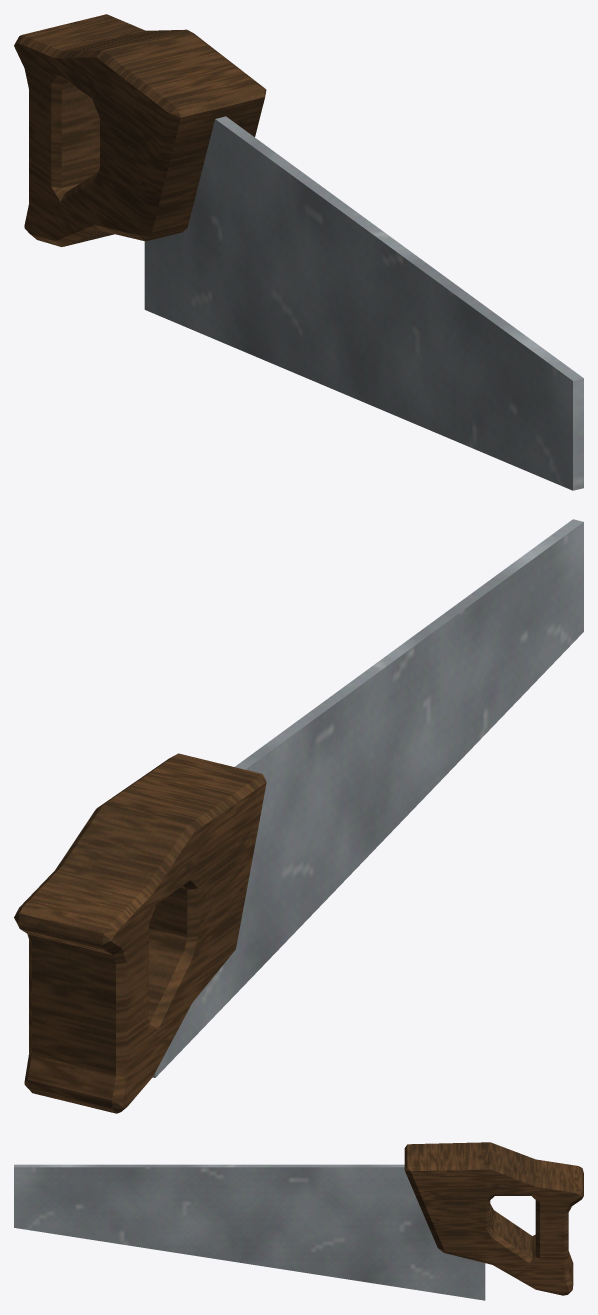
Rendered from Handsaw.fbx.
3 views of the same model, one above another, from view 1: azimuth 30°, elevation 25°; view 2: azimuth 150°, elevation 25°; view 3: azimuth 270°, elevation 25° (orthographic). The views are drawn at different scales.
Visible parts, largest first — view 1: Handsaw, Handsaw.001; view 2: Handsaw, Handsaw.001; view 3: Handsaw, Handsaw.001.
Part boxes in pixels (bbox=[...]): Handsaw: bbox=[144, 116, 583, 490]; Handsaw.001: bbox=[14, 14, 266, 246]; Handsaw: bbox=[152, 519, 583, 1077]; Handsaw.001: bbox=[14, 753, 266, 1113]; Handsaw: bbox=[14, 1164, 485, 1300]; Handsaw.001: bbox=[404, 1142, 583, 1295].
Size of the model in its own units: 0.0755 by 0.1955 by 0.6935.
2 materials, 2 textured.
